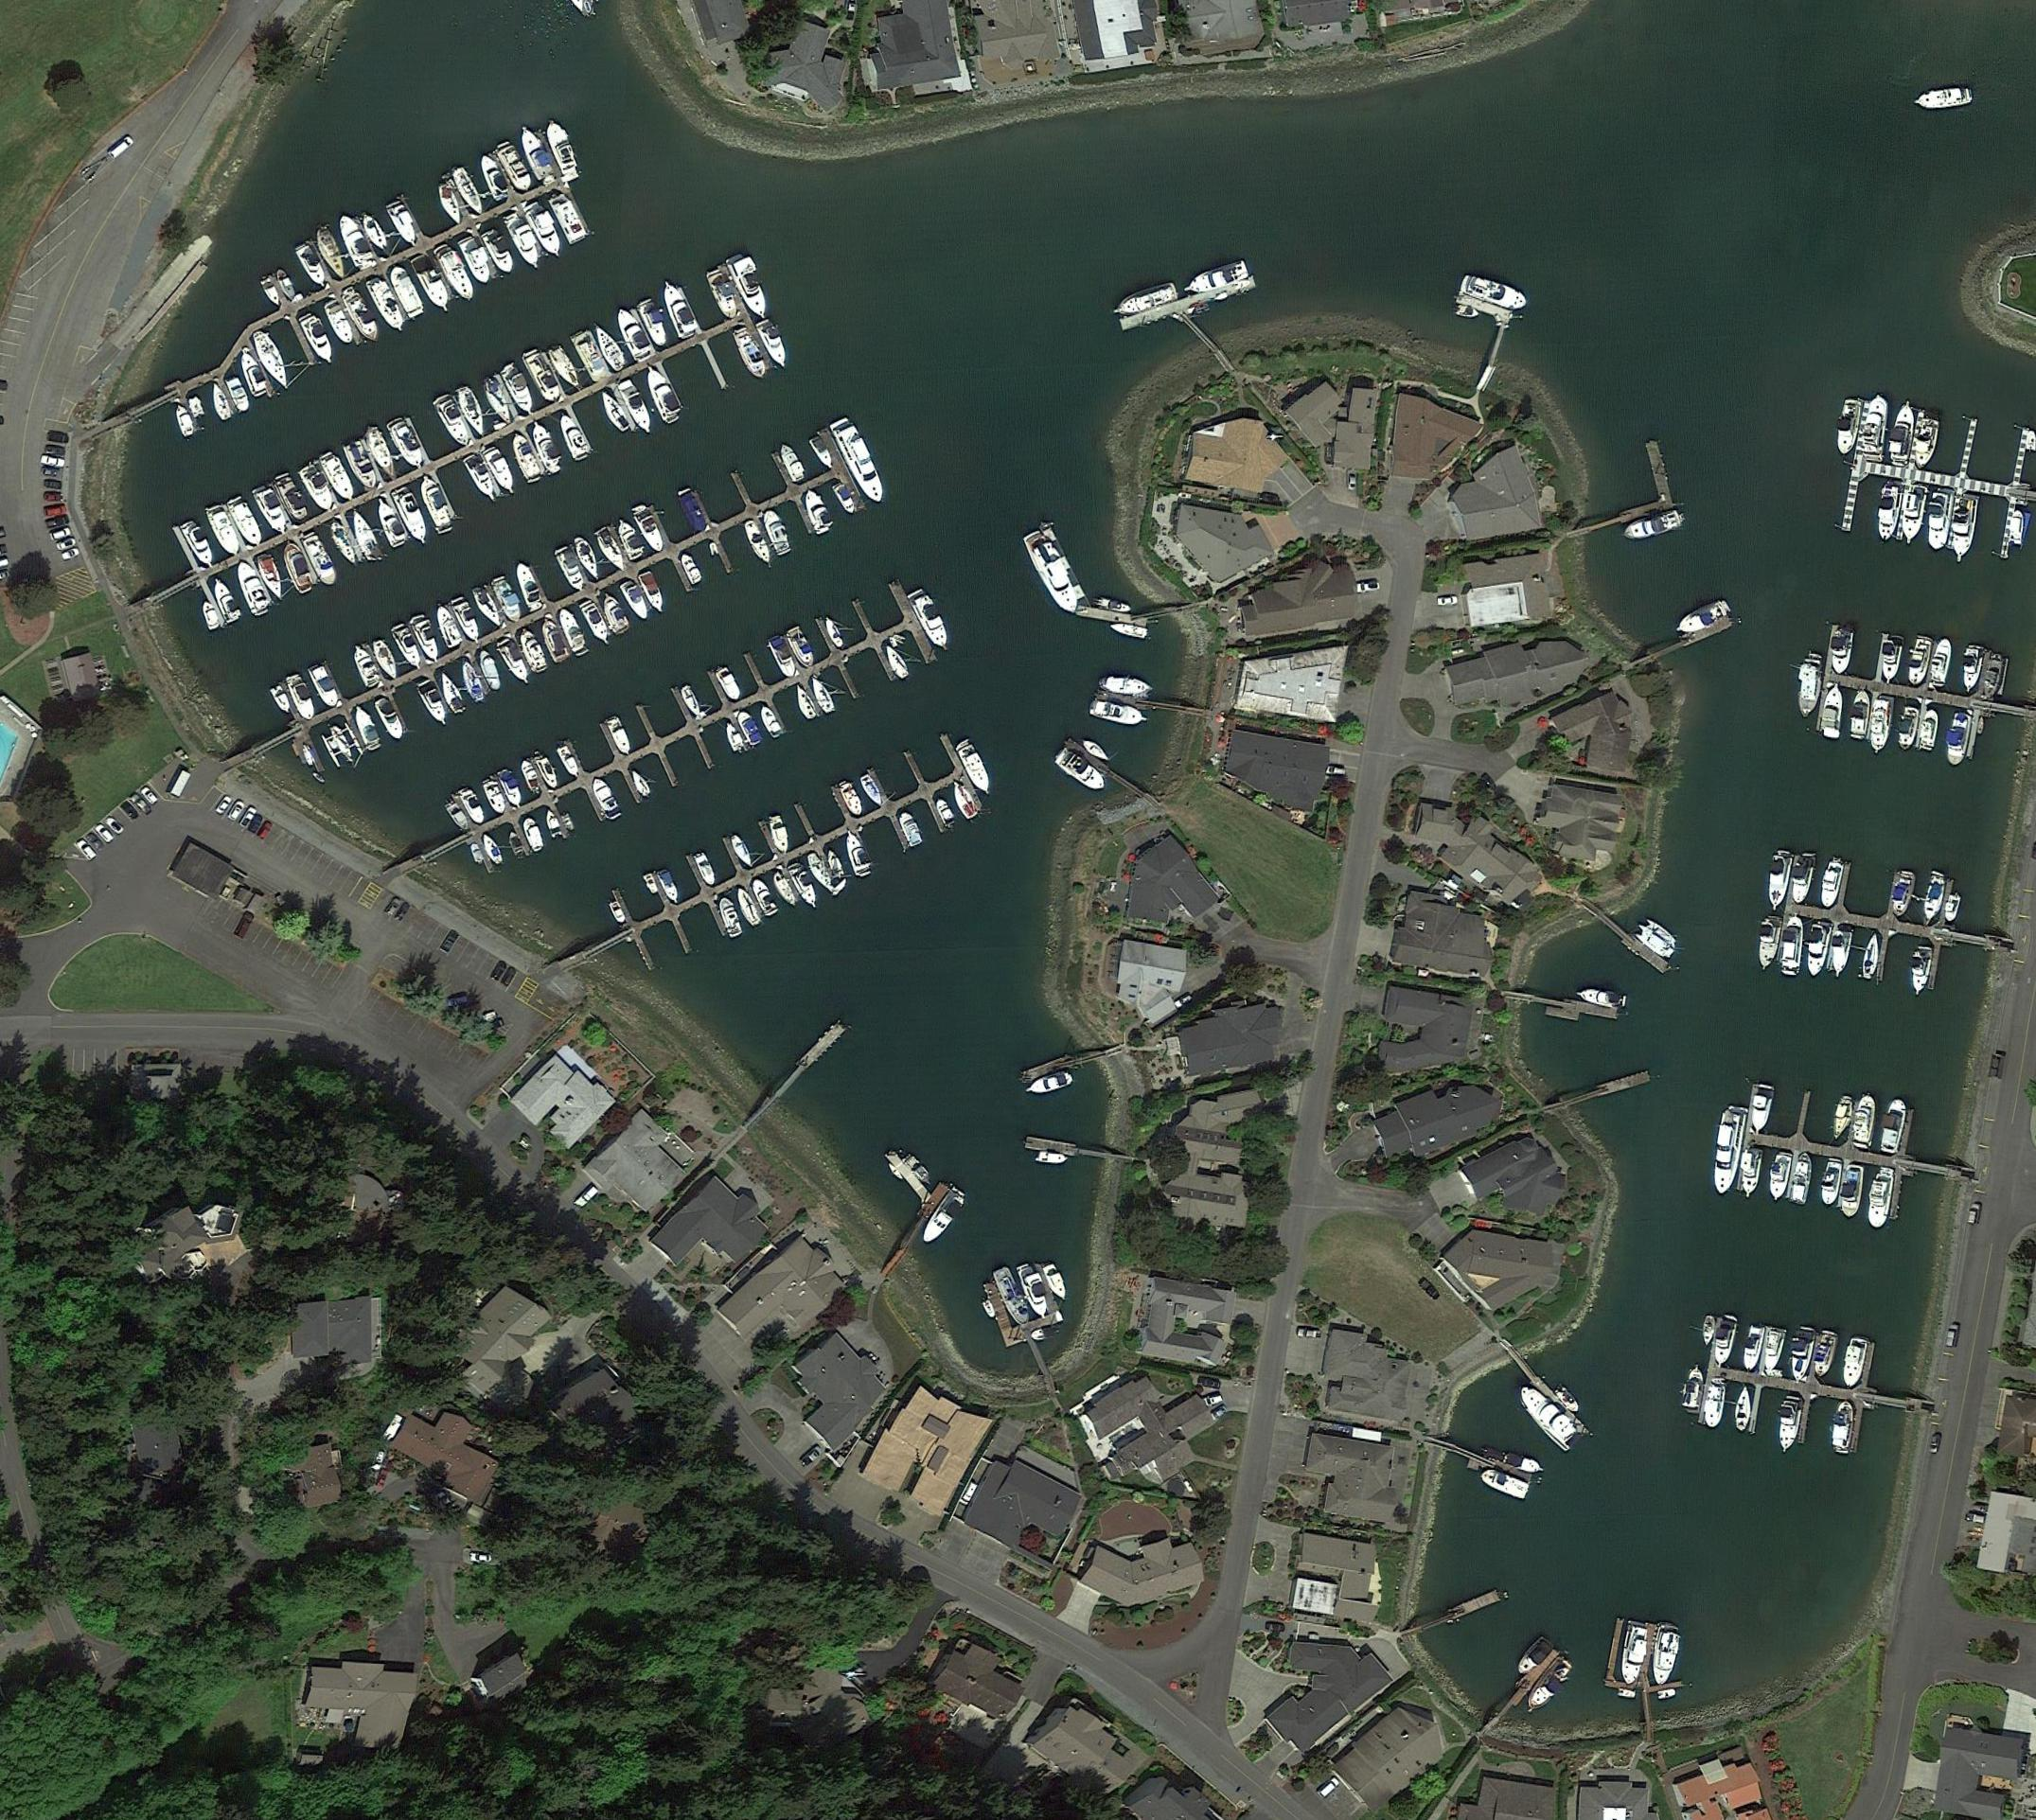harbor: (144, 262, 778, 643), (248, 420, 868, 787), (422, 578, 942, 887), (557, 731, 986, 993), (227, 126, 590, 381), (1843, 399, 2036, 566), (1699, 1318, 1922, 1460), (1736, 1082, 1959, 1224), (1816, 622, 2032, 766), (1776, 854, 1996, 994), (1119, 276, 1268, 378), (734, 1019, 848, 1137), (1593, 1618, 1693, 1741), (982, 1263, 1080, 1388), (1567, 441, 1676, 536), (1493, 1347, 1592, 1451), (1430, 292, 1516, 394), (880, 1181, 952, 1279), (1072, 589, 1196, 643), (1484, 1646, 1560, 1730), (1590, 903, 1672, 975), (1063, 738, 1147, 801), (1635, 613, 1734, 666), (1509, 991, 1620, 1029), (1551, 1070, 1651, 1112), (1451, 1442, 1537, 1488), (1024, 1135, 1138, 1168), (1421, 1590, 1502, 1634), (1096, 689, 1202, 722), (885, 1149, 933, 1203)
ship: (829, 416, 892, 513), (1021, 527, 1084, 624), (1511, 1381, 1583, 1455), (1706, 1103, 1750, 1200), (724, 251, 775, 323), (1520, 1655, 1576, 1718), (1458, 272, 1532, 320), (905, 587, 956, 655), (919, 1186, 970, 1249), (432, 241, 480, 307), (249, 327, 295, 395), (1108, 278, 1179, 321), (339, 285, 386, 350), (409, 251, 455, 318), (1052, 745, 1112, 796), (522, 200, 569, 264), (539, 116, 583, 183), (364, 274, 409, 337), (502, 211, 546, 276), (1180, 258, 1251, 299), (641, 362, 683, 429), (520, 344, 564, 408), (392, 485, 434, 550), (657, 278, 699, 341), (993, 1263, 1033, 1328), (299, 531, 343, 590), (954, 738, 998, 798), (334, 211, 376, 272), (617, 378, 657, 441), (232, 557, 272, 620), (416, 473, 457, 536), (494, 137, 536, 197), (362, 422, 402, 483), (613, 304, 653, 364), (299, 311, 339, 371), (1616, 1620, 1651, 1688), (1887, 397, 1920, 469), (386, 416, 429, 473), (1672, 597, 1729, 639), (1792, 652, 1825, 722), (341, 436, 381, 494), (515, 123, 555, 181), (1635, 915, 1685, 963), (1948, 492, 1980, 566), (497, 364, 539, 418), (1650, 1620, 1683, 1688), (1924, 487, 1957, 555), (731, 327, 771, 383), (432, 394, 473, 450), (1015, 1260, 1052, 1321), (320, 722, 367, 769), (313, 225, 351, 283), (1860, 394, 1892, 464), (754, 316, 792, 372), (206, 502, 244, 559), (227, 495, 265, 552), (251, 483, 290, 539), (386, 262, 425, 318), (1873, 480, 1906, 545), (450, 163, 487, 221), (1778, 912, 1809, 979), (299, 462, 337, 516), (478, 374, 516, 429), (274, 471, 313, 525), (1623, 509, 1683, 545), (704, 267, 741, 323), (320, 450, 357, 506), (279, 539, 316, 596), (1764, 849, 1795, 914), (1087, 697, 1149, 731), (629, 502, 668, 555), (179, 518, 218, 571), (371, 495, 409, 548), (527, 420, 564, 474), (592, 320, 629, 374), (546, 343, 583, 397), (453, 385, 490, 439), (1772, 1395, 1806, 1455), (578, 597, 615, 650), (457, 234, 494, 286), (346, 508, 383, 560), (1477, 1465, 1530, 1502), (1866, 1166, 1895, 1231), (1899, 483, 1929, 548), (497, 636, 532, 690), (508, 430, 543, 485), (1866, 692, 1895, 755), (592, 525, 629, 576), (462, 453, 499, 504), (481, 444, 518, 495), (390, 622, 425, 675), (409, 611, 444, 664), (553, 543, 588, 596), (255, 552, 290, 604), (787, 861, 822, 914), (1513, 1636, 1555, 1679), (1834, 397, 1864, 459), (513, 559, 546, 613), (481, 227, 518, 276), (385, 200, 422, 249), (416, 678, 451, 729), (555, 411, 590, 462), (741, 518, 776, 569), (759, 506, 794, 557), (1753, 914, 1783, 973), (1943, 710, 1973, 769), (1818, 682, 1848, 741), (492, 574, 525, 627), (1829, 1398, 1859, 1456), (1788, 1326, 1818, 1384), (571, 534, 606, 583), (295, 241, 330, 290), (838, 829, 873, 878), (1913, 84, 1975, 112), (351, 703, 385, 754), (286, 673, 320, 724), (450, 594, 483, 645), (516, 625, 550, 676), (801, 487, 834, 538), (636, 299, 669, 350), (1806, 921, 1834, 980), (1841, 1333, 1871, 1390), (1913, 416, 1943, 473), (1880, 1096, 1908, 1156), (597, 388, 632, 436), (597, 590, 632, 638), (618, 578, 653, 625), (478, 151, 509, 204), (307, 662, 341, 711), (471, 583, 504, 632), (436, 668, 469, 717), (555, 604, 588, 654), (538, 615, 571, 664), (676, 487, 710, 536), (327, 520, 360, 569), (1098, 673, 1156, 701), (1679, 1361, 1709, 1416), (457, 655, 488, 706), (374, 696, 408, 743), (590, 775, 624, 822), (323, 299, 357, 346), (434, 181, 467, 228), (1906, 632, 1934, 689), (1852, 1091, 1878, 1151), (237, 350, 269, 399), (1922, 870, 1948, 928), (638, 571, 671, 617), (785, 625, 819, 671), (369, 636, 401, 683), (211, 578, 242, 625), (1498, 1446, 1546, 1477), (1906, 945, 1934, 998), (1839, 1163, 1866, 1219), (1765, 1151, 1794, 1203), (1737, 1147, 1765, 1200), (1713, 1314, 1739, 1370), (947, 778, 980, 822), (350, 643, 381, 689), (432, 603, 464, 648), (768, 634, 799, 680), (1792, 852, 1818, 906), (1788, 1151, 1815, 1205), (1880, 632, 1906, 687), (1702, 1377, 1729, 1432), (1927, 638, 1955, 689), (1024, 1070, 1075, 1098), (476, 646, 506, 694), (748, 877, 782, 919), (604, 715, 636, 759), (715, 896, 747, 940), (360, 211, 392, 255), (1750, 1084, 1776, 1137), (1980, 654, 2008, 703), (1894, 704, 1922, 754), (899, 1151, 936, 1188), (1959, 643, 1985, 694), (1848, 689, 1874, 740), (764, 813, 796, 856), (615, 516, 645, 560), (776, 441, 806, 485), (1042, 1260, 1072, 1304), (1890, 871, 1917, 921), (1813, 1330, 1839, 1379), (1830, 1094, 1857, 1144), (1830, 625, 1857, 675), (733, 885, 762, 928), (1576, 986, 1627, 1010), (1829, 931, 1853, 982), (1820, 1156, 1845, 1207), (497, 768, 525, 812), (441, 796, 473, 834), (1820, 861, 1845, 910), (1741, 1325, 1765, 1374), (734, 708, 764, 748), (769, 870, 799, 910), (458, 787, 487, 829), (207, 381, 235, 423), (838, 778, 866, 820), (1764, 1326, 1787, 1377), (727, 833, 757, 871), (715, 666, 745, 704), (808, 675, 838, 713), (896, 810, 926, 849), (481, 776, 509, 817), (791, 682, 819, 722), (225, 374, 253, 415), (1732, 1386, 1757, 1432), (692, 850, 720, 889), (882, 641, 910, 680), (805, 850, 833, 889), (1860, 933, 1883, 980), (534, 754, 560, 794), (1079, 736, 1114, 766), (808, 436, 836, 473), (859, 773, 887, 810), (1918, 708, 1941, 752), (831, 481, 859, 516), (520, 815, 546, 852), (480, 831, 506, 868), (655, 868, 682, 905), (172, 401, 197, 439), (1553, 1384, 1583, 1416), (557, 743, 581, 780), (518, 757, 543, 794), (1107, 620, 1149, 641), (680, 685, 704, 720), (759, 704, 783, 740), (274, 267, 299, 302), (824, 847, 848, 882), (678, 552, 703, 585), (260, 276, 285, 309), (1093, 596, 1135, 615), (822, 615, 845, 650), (199, 597, 221, 632), (629, 768, 653, 799), (722, 722, 747, 754), (933, 796, 957, 826), (271, 685, 293, 717), (541, 808, 564, 840), (2006, 509, 2025, 546), (1699, 1314, 1718, 1347), (506, 829, 527, 859), (1029, 1325, 1065, 1342), (1035, 1151, 1068, 1166), (1455, 302, 1481, 321), (186, 395, 206, 420), (641, 871, 661, 896), (1945, 894, 1960, 924), (610, 899, 627, 926), (980, 1296, 998, 1321), (469, 843, 485, 866), (560, 812, 576, 834), (1655, 1686, 1678, 1701), (1618, 1686, 1637, 1701), (2025, 430, 2036, 453), (708, 541, 722, 557), (891, 634, 908, 646), (1976, 717, 1985, 736)
